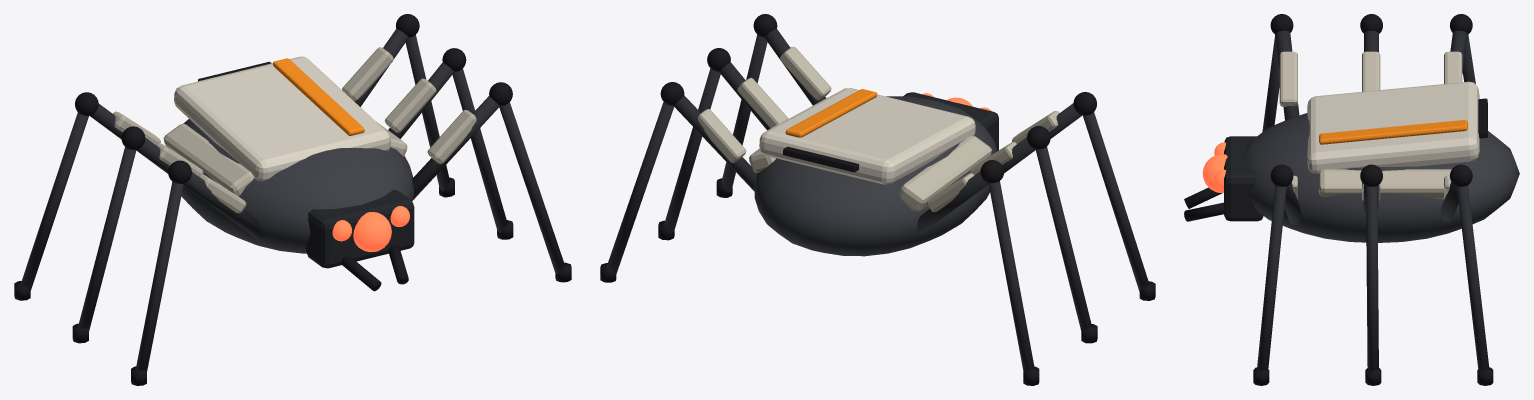
File: Crawler.fbx
3 renders of one model, left to right at view 1: azimuth 30°, elevation 25°; view 2: azimuth 150°, elevation 25°; view 3: azimuth 270°, elevation 25°, orthographic. The views are drawn at different scales.
Visible parts, largest first — view 1: Part__Metal__2e2f34, Part__SmoothPlastic__d9d2c3, Part__Metal__3e4046, Part__SmoothPlastic__bfb8a8, Part__Metal__1c1c20, Part__Metal__26272b, Part__SmoothPlastic__ff8c1e, Eye__Neon__ff3c28, Part__Neon__ff3c28; view 2: Part__Metal__2e2f34, Part__Metal__3e4046, Part__SmoothPlastic__d9d2c3, Part__SmoothPlastic__bfb8a8, Part__Metal__1c1c20, Part__SmoothPlastic__ff8c1e, Part__Metal__26272b; view 3: Part__Metal__3e4046, Part__SmoothPlastic__d9d2c3, Part__Metal__2e2f34, Part__SmoothPlastic__bfb8a8, Part__Metal__1c1c20, Part__Metal__26272b, Part__SmoothPlastic__ff8c1e, Eye__Neon__ff3c28, Part__Neon__ff3c28.
Part boxes in pixels (<box>): Part__Metal__2e2f34: <box>21,29,565,370</box>; Part__SmoothPlastic__d9d2c3: <box>174,56,390,181</box>; Part__Metal__3e4046: <box>181,119,413,253</box>; Part__SmoothPlastic__bfb8a8: <box>113,47,476,213</box>; Part__Metal__1c1c20: <box>14,14,571,385</box>; Part__Metal__26272b: <box>306,189,414,268</box>; Part__SmoothPlastic__ff8c1e: <box>272,58,364,135</box>; Eye__Neon__ff3c28: <box>353,212,391,251</box>; Part__Neon__ff3c28: <box>332,206,409,241</box>; Part__Metal__2e2f34: <box>606,28,1149,370</box>; Part__Metal__3e4046: <box>754,96,997,256</box>; Part__SmoothPlastic__d9d2c3: <box>759,88,975,184</box>; Part__SmoothPlastic__bfb8a8: <box>698,46,1059,212</box>; Part__Metal__1c1c20: <box>600,14,1155,385</box>; Part__SmoothPlastic__ff8c1e: <box>785,89,877,137</box>; Part__Metal__26272b: <box>903,92,998,150</box>; Part__Metal__3e4046: <box>1243,113,1519,242</box>; Part__SmoothPlastic__d9d2c3: <box>1307,81,1479,173</box>; Part__Metal__2e2f34: <box>1257,30,1489,370</box>; Part__SmoothPlastic__bfb8a8: <box>1279,51,1462,200</box>; Part__Metal__1c1c20: <box>1184,14,1493,385</box>; Part__Metal__26272b: <box>1224,136,1263,221</box>; Part__SmoothPlastic__ff8c1e: <box>1319,120,1467,144</box>; Eye__Neon__ff3c28: <box>1202,154,1227,192</box>; Part__Neon__ff3c28: <box>1214,142,1225,190</box>.
Bounding box in the file's own units: 4.24 × 1.86 × 2.92.
